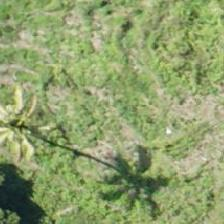coconut_tree: (0, 86, 62, 176)
